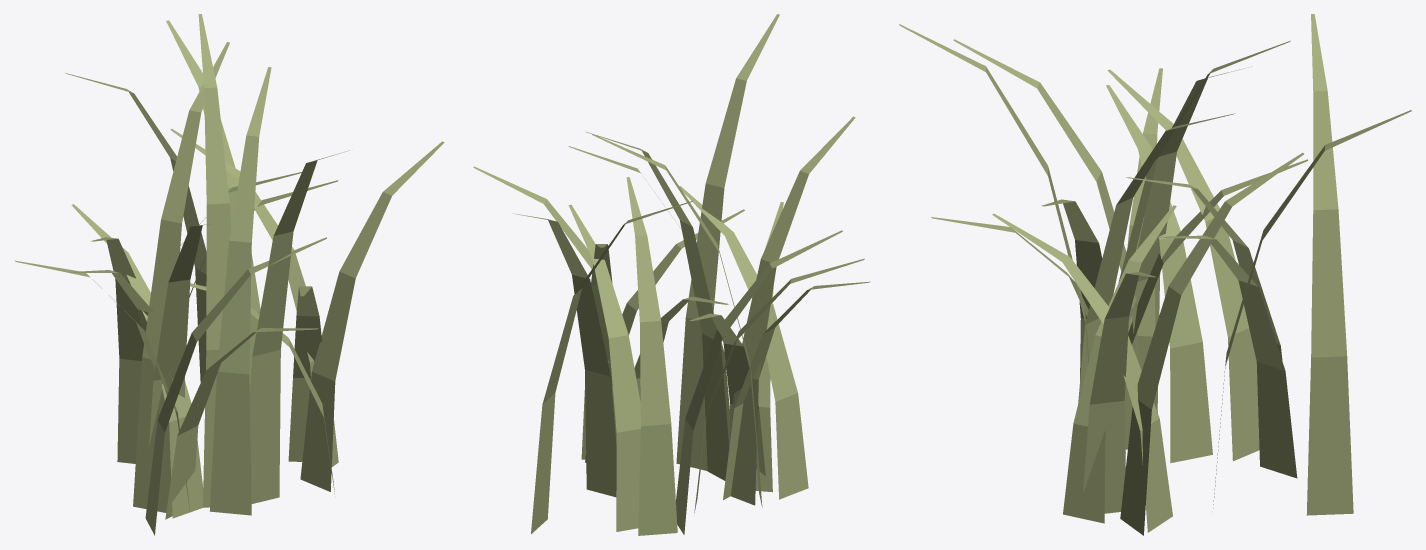
The model's file is desert-canyons-and-oases-damp-grass-fdc41c51__20986.glb.
3 renders of one model, left to right at view 1: azimuth 30°, elevation 25°; view 2: azimuth 150°, elevation 25°; view 3: azimuth 270°, elevation 25°, orthographic. The views are drawn at different scales.
Parts seen in each view (by area): view 1: damp-grass; view 2: damp-grass; view 3: damp-grass.
Boxes of the visible parts, x1,y1,x2,y2 form: damp-grass: [15, 14, 444, 535]; damp-grass: [473, 14, 870, 535]; damp-grass: [899, 14, 1411, 535].
Size of the model in its own units: 0.7344 by 0.6882 by 0.6973.
